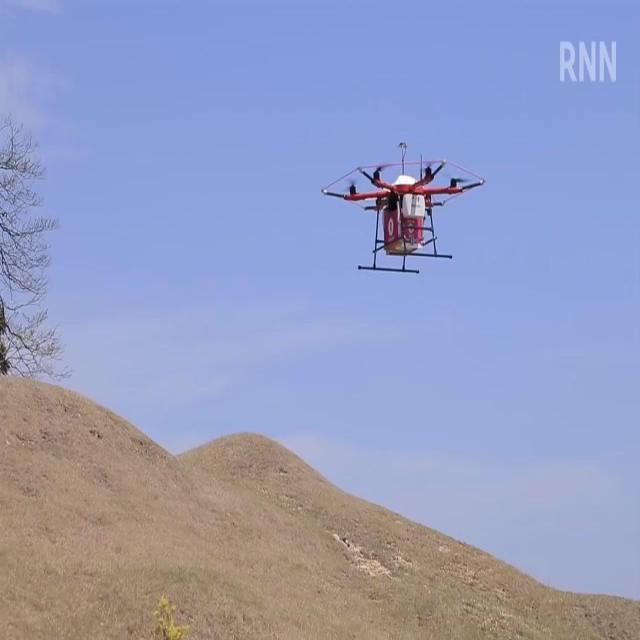drone: (320, 140, 487, 282)
